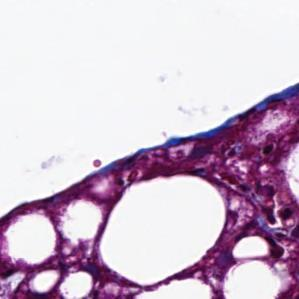inflammation: (224, 177, 295, 234)
